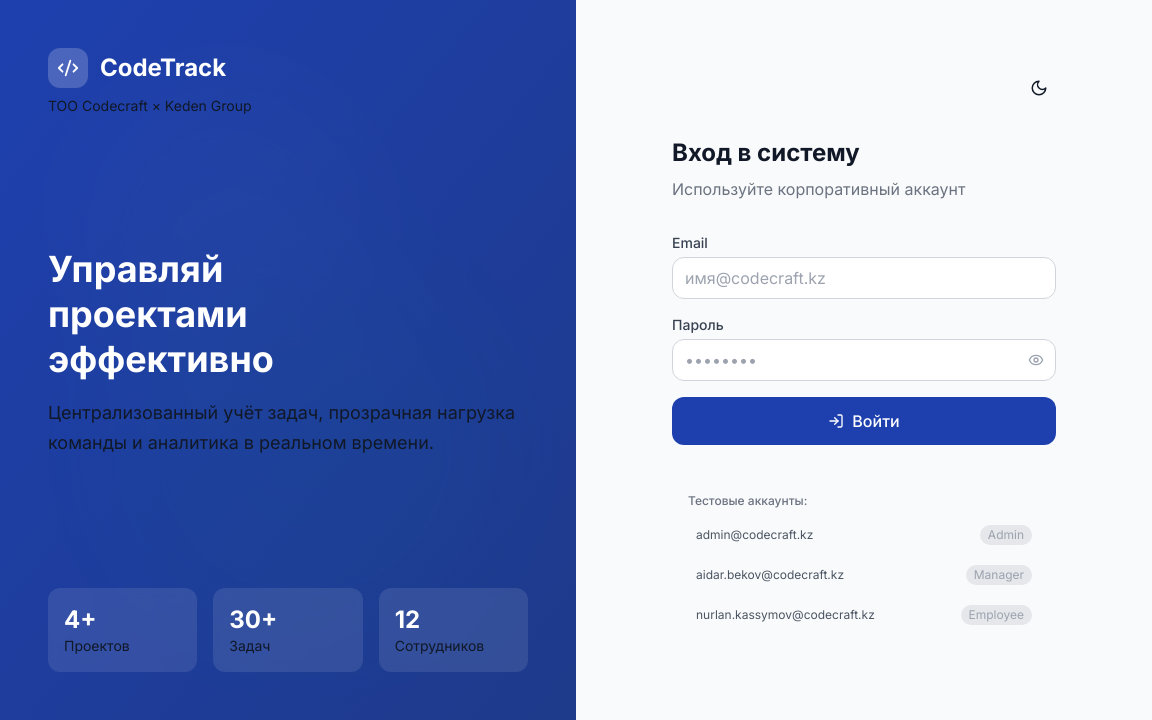
Login page › заполняет форму при клике на тестовый аккаунт admin
Click the text "admin@codecraft.kz". click: click(755, 535)
box: [696,527,813,543]
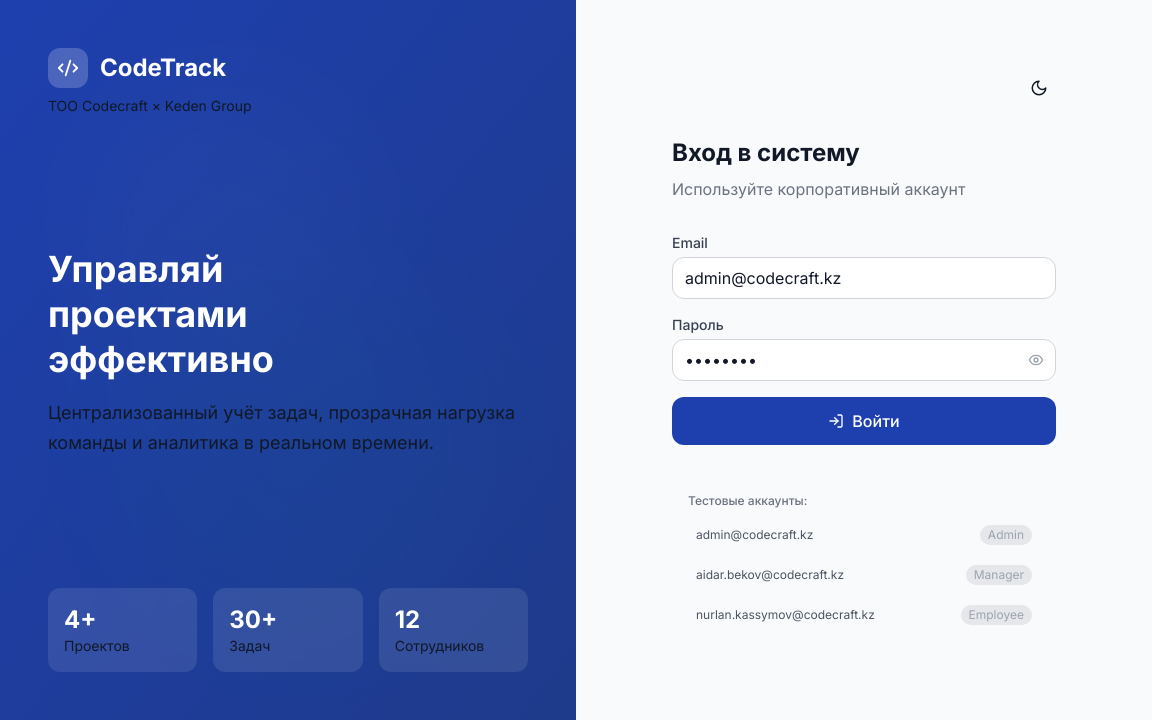
Check: the field with placeholder "имя@codecraft.kz" holds "admin@codecraft.kz", box [672,257,1056,299]
